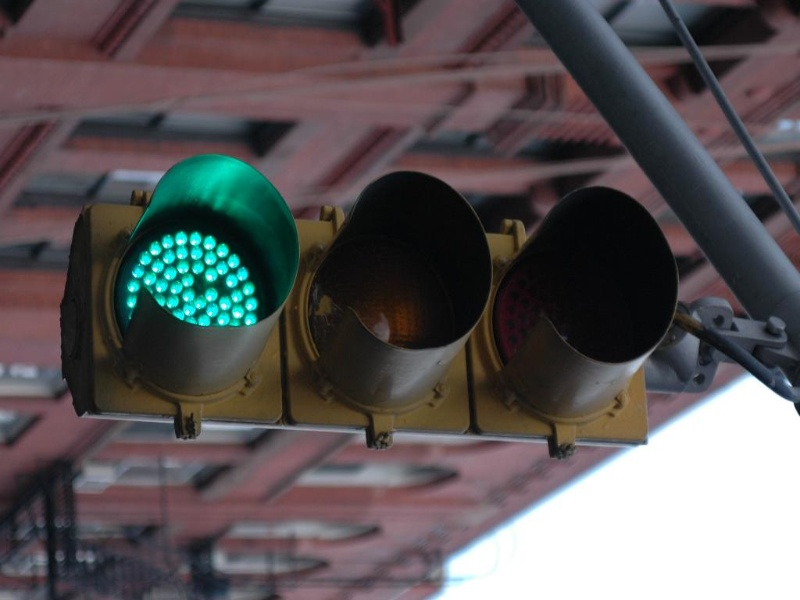green_light: (95, 173, 296, 401)
